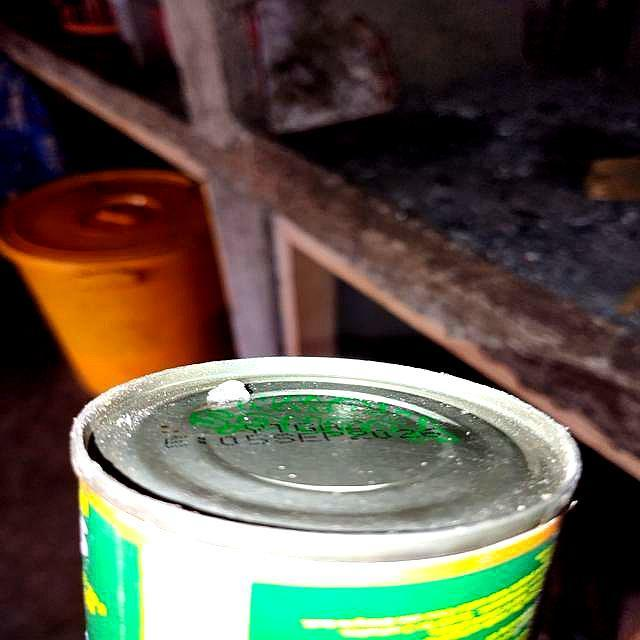Non-biodegradable: (67, 353, 589, 640)
